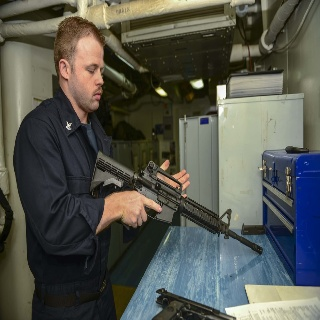rifle: (88, 148, 264, 258)
